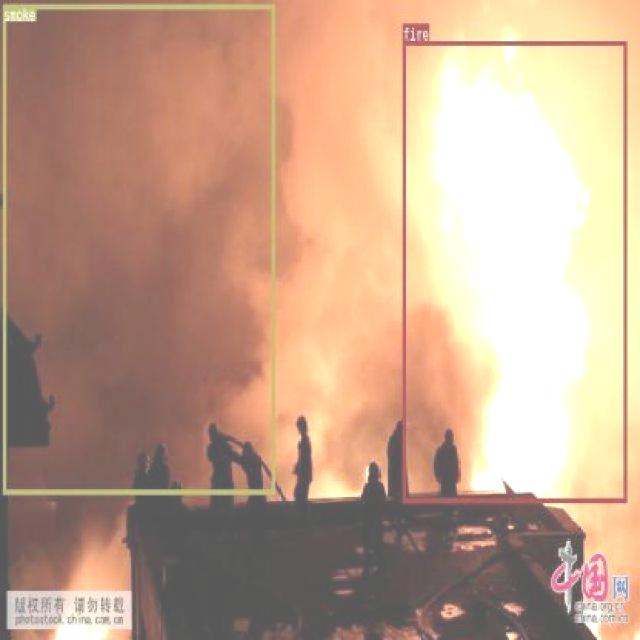fire: (402, 40, 627, 502)
smoke: (1, 3, 274, 494)
